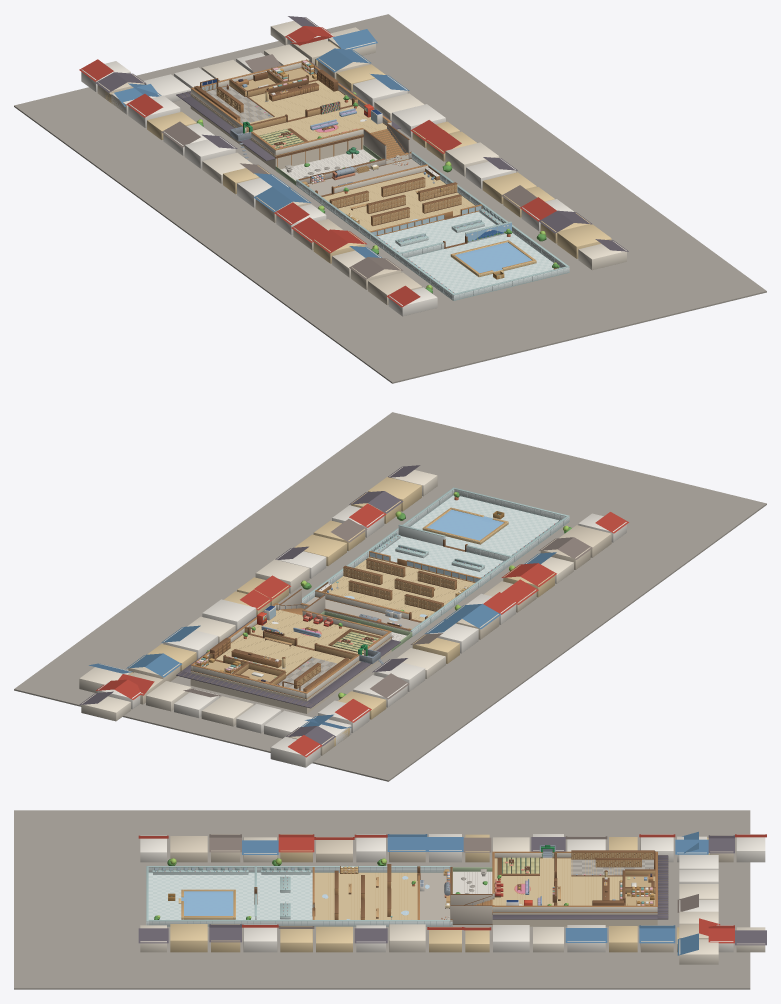
The model's file is bathhouse_kit.glb.
3 views of the same model, one above another, from view 1: azimuth 30°, elevation 25°; view 2: azimuth 150°, elevation 25°; view 3: azimuth 270°, elevation 25° (orthographic). The views are drawn at different scales.
Parts seen in each view (by area): view 1: FLOORS, BUILDING, DETAILS, WATER; view 2: FLOORS, BUILDING, DETAILS, WATER; view 3: FLOORS, BUILDING, DETAILS, WATER.
Part boxes in pixels (box(x1,y1,x2,y2)): FLOORS: box(14, 14, 766, 383); BUILDING: box(190, 59, 569, 300); DETAILS: box(200, 68, 559, 272); WATER: box(455, 242, 531, 273); FLOORS: box(14, 412, 766, 781); BUILDING: box(190, 487, 569, 699); DETAILS: box(209, 492, 467, 690); WATER: box(427, 509, 503, 540); FLOORS: box(14, 810, 766, 989); BUILDING: box(146, 845, 657, 926); DETAILS: box(154, 845, 655, 919); WATER: box(181, 891, 233, 915).
Size of the model in its own units: 80 by 6.3 by 143.
Materials: 2 (2 with a texture image).
